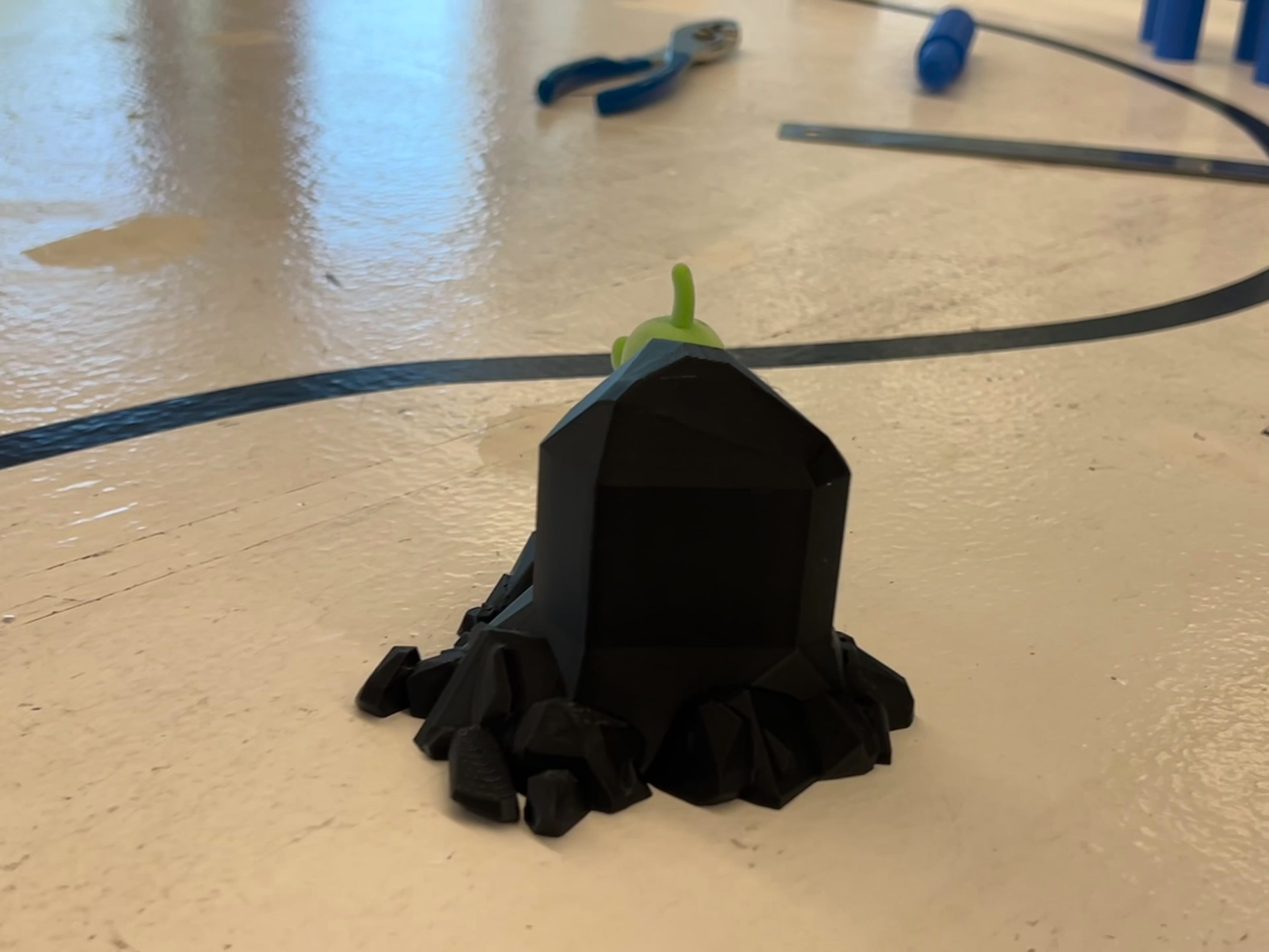teletubby: (611, 264, 722, 369)
